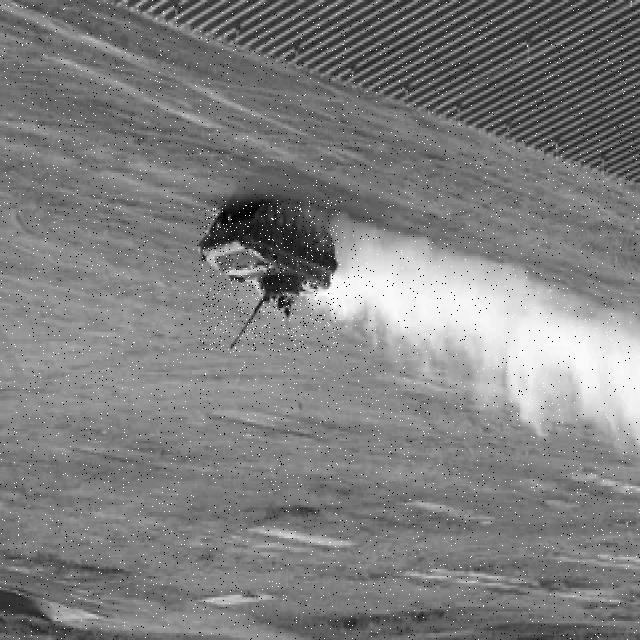MIL_MBT: (199, 200, 339, 352)
